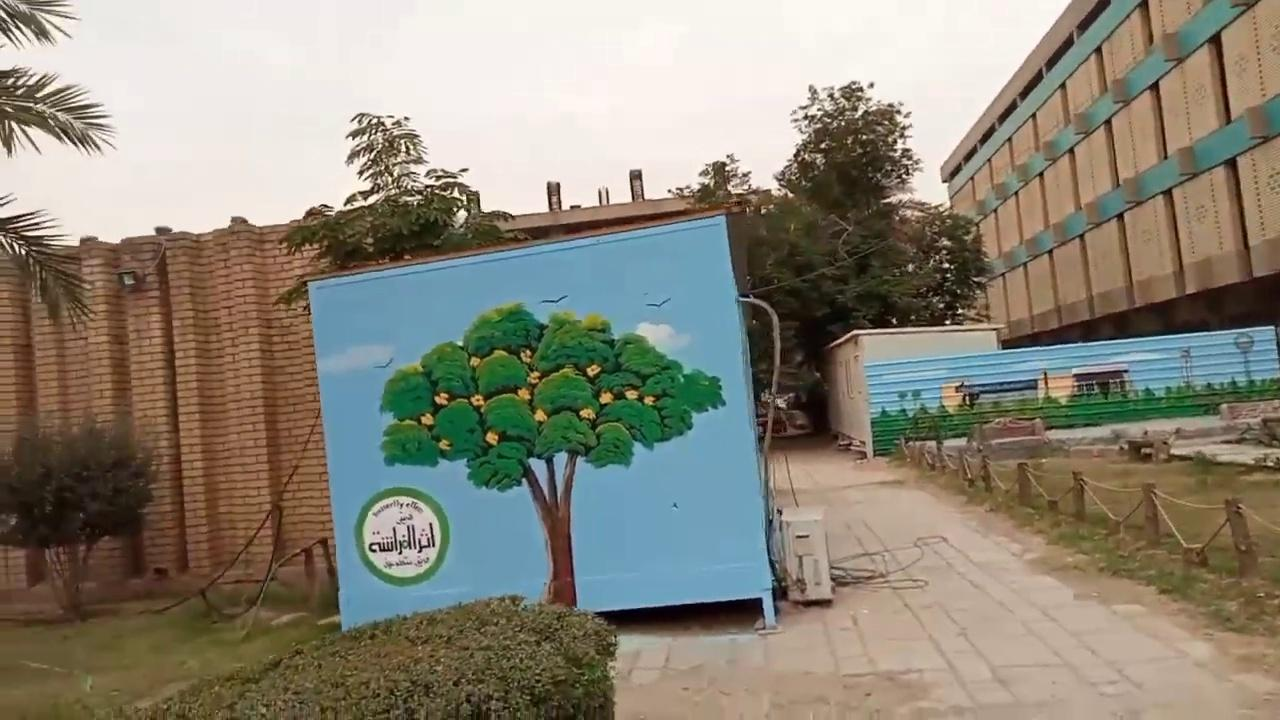tree: (671, 77, 994, 416), (378, 299, 725, 609), (272, 110, 528, 313), (745, 78, 926, 351), (0, 0, 117, 331), (2, 406, 157, 620), (773, 78, 923, 222), (885, 197, 994, 327), (667, 151, 771, 211)
